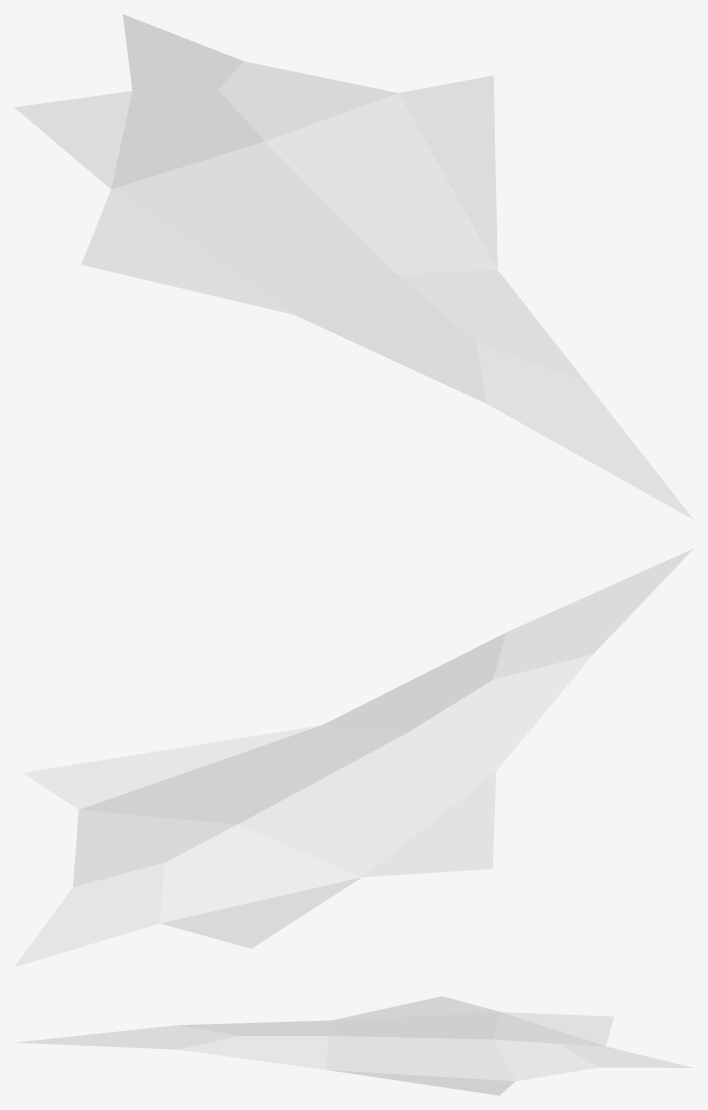
Rendered from Pine_Spikes_OneSided_Snow_02.fbx.
3 renders of one model, top to bottom at view 1: azimuth 30°, elevation 25°; view 2: azimuth 150°, elevation 25°; view 3: azimuth 270°, elevation 25°, orthographic. The views are drawn at different scales.
Visible parts, largest first — view 1: Pine_Spikes_OneSided_Snow_02; view 2: Pine_Spikes_OneSided_Snow_02; view 3: Pine_Spikes_OneSided_Snow_02.
Part boxes in pixels (x1=…): Pine_Spikes_OneSided_Snow_02: x1=14, y1=14, x2=693, y2=519; Pine_Spikes_OneSided_Snow_02: x1=14, y1=548, x2=693, y2=967; Pine_Spikes_OneSided_Snow_02: x1=16, y1=996, x2=693, y2=1095.
Bounding box in the file's own units: 102 × 7.06 × 250.
